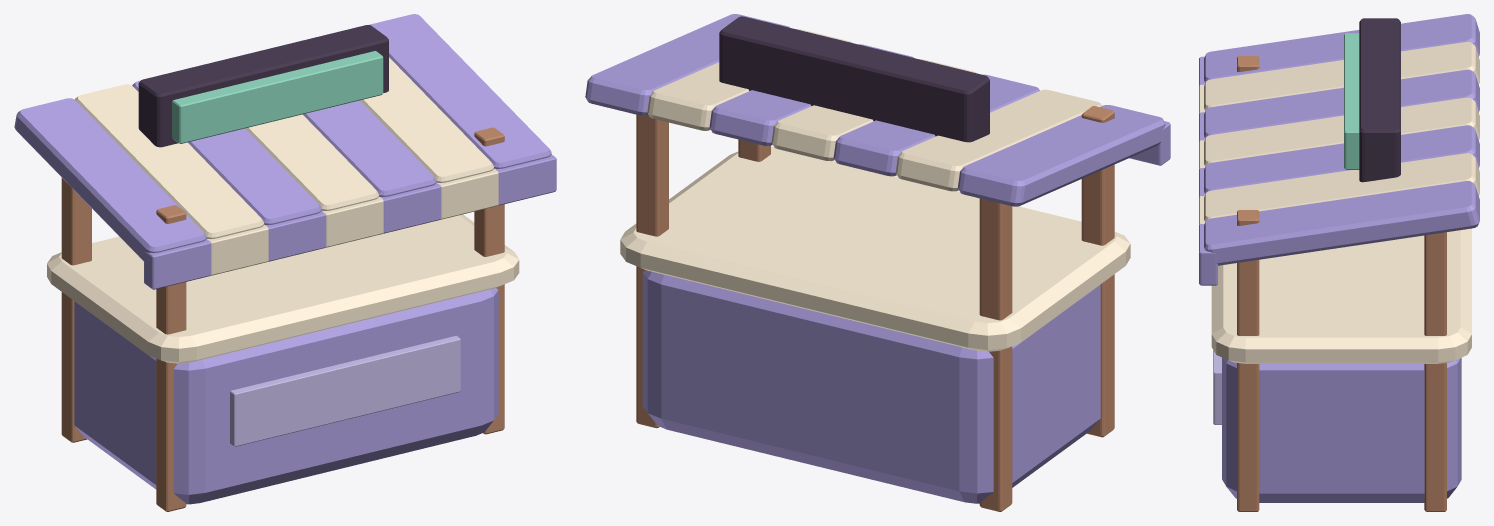
The model's file is shop_base.glb.
3 views of the same model, side by side, from view 1: azimuth 30°, elevation 25°; view 2: azimuth 150°, elevation 25°; view 3: azimuth 270°, elevation 25° (orthographic). The views are drawn at different scales.
Parts seen in each view (by area): view 1: model, awning, counter, sign_blank, sign_back; view 2: model, counter, awning, sign_back; view 3: awning, model, counter, sign_back, sign_blank.
Boxes of the visible parts, x1,y1,x2,y2 form: model: [47, 127, 556, 511]; awning: [14, 14, 551, 261]; counter: [74, 288, 498, 504]; sign_blank: [172, 51, 383, 143]; sign_back: [138, 25, 388, 147]; model: [620, 106, 1170, 511]; counter: [642, 270, 1100, 503]; awning: [585, 14, 1165, 206]; sign_back: [719, 16, 989, 142]; awning: [1204, 14, 1479, 265]; model: [1199, 56, 1471, 511]; counter: [1222, 357, 1461, 502]; sign_back: [1359, 18, 1400, 182]; sign_blank: [1344, 33, 1359, 169].
Bounding box in the file's own units: 1.65 × 1.4 × 1.
